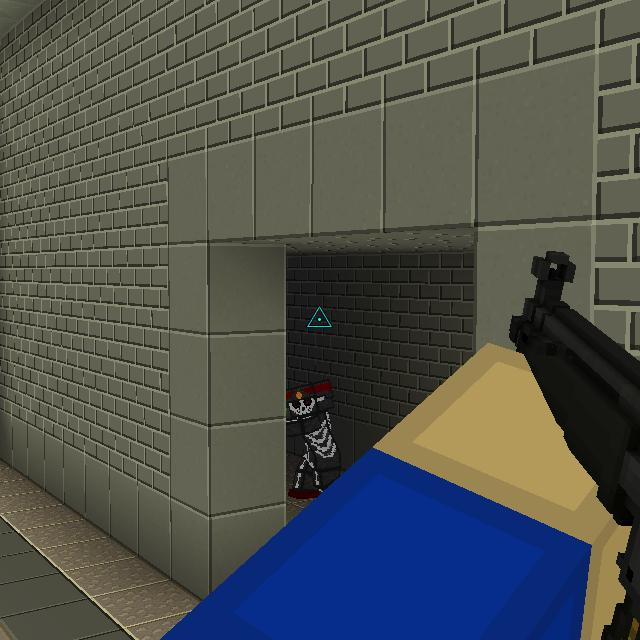enemy: (287, 377, 348, 501)
